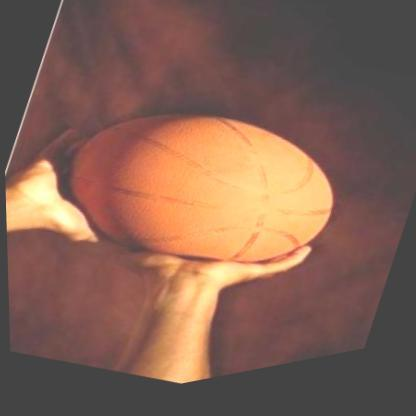basketball: (37, 51, 357, 334)
